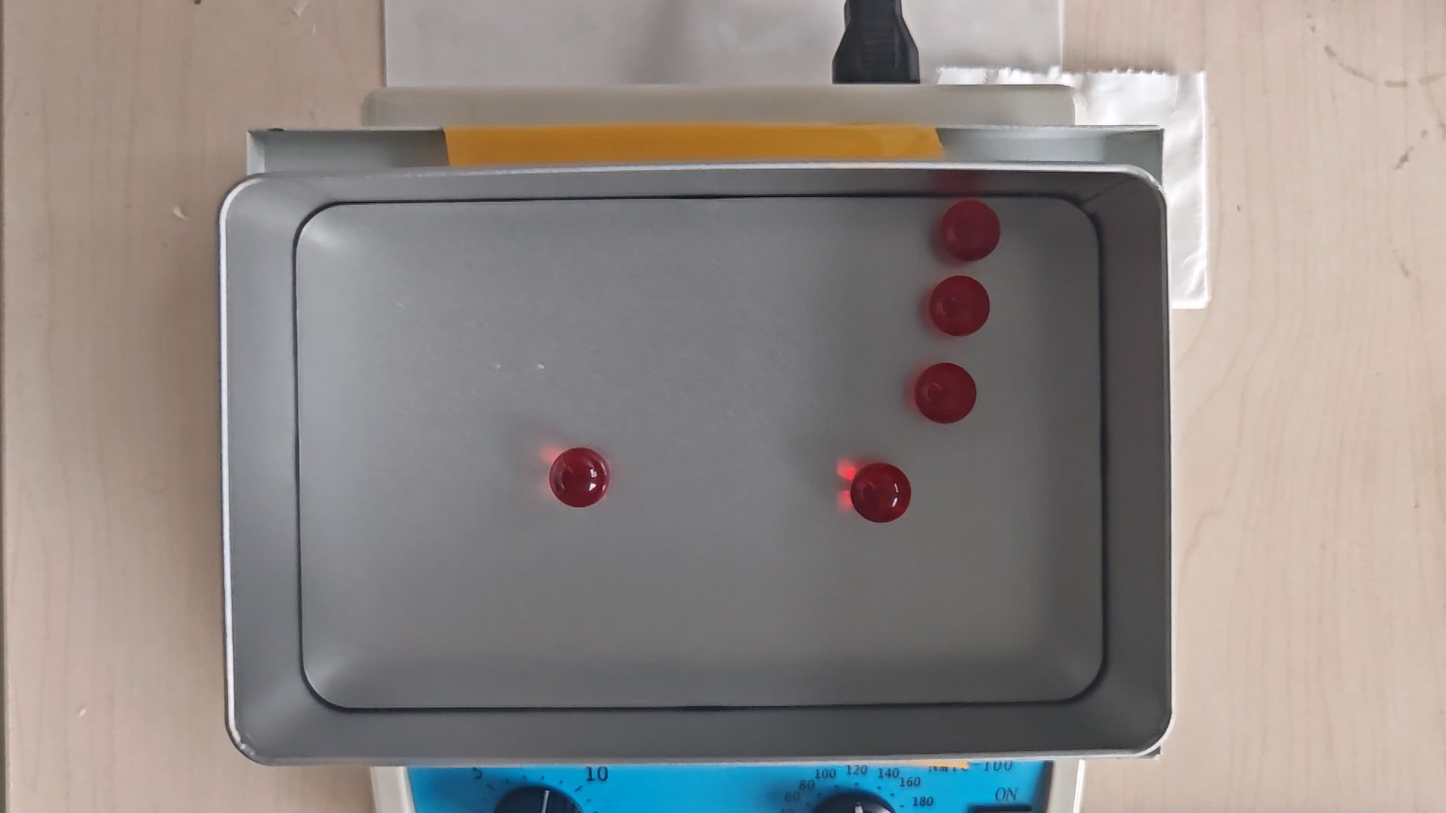ball: (915, 364, 978, 426), (929, 276, 991, 338), (551, 446, 610, 507), (852, 465, 910, 525), (942, 199, 999, 259)
container: (297, 196, 1104, 708)
